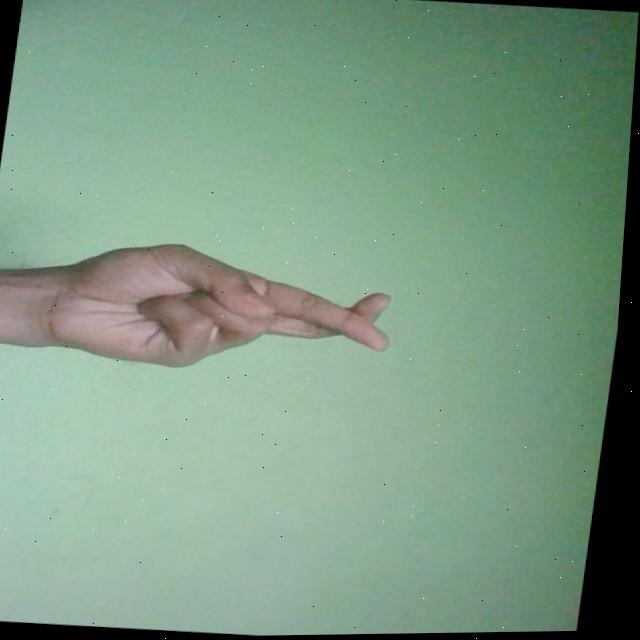Good Luck: (34, 235, 404, 384)
